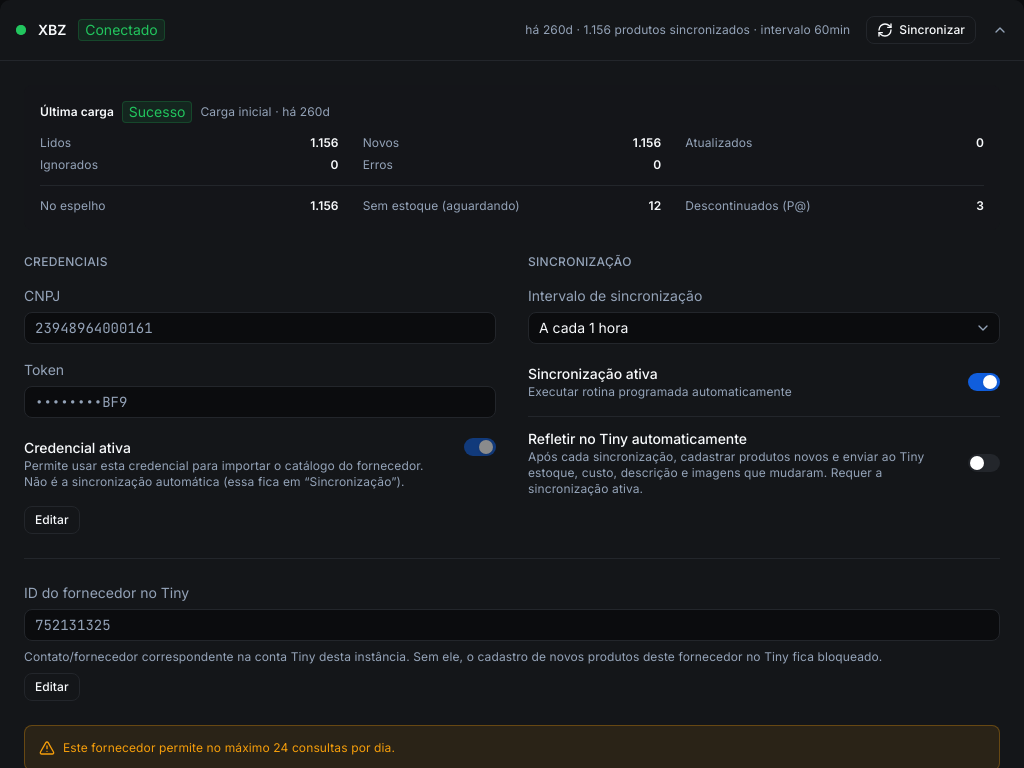
FornecedorAcordeao › Editar → limpar o campo → Salvar envia null
Click the button with aria-label "Editar ID do fornecedor no Tiny" at [52, 687], box left=24, top=673, right=80, bottom=701
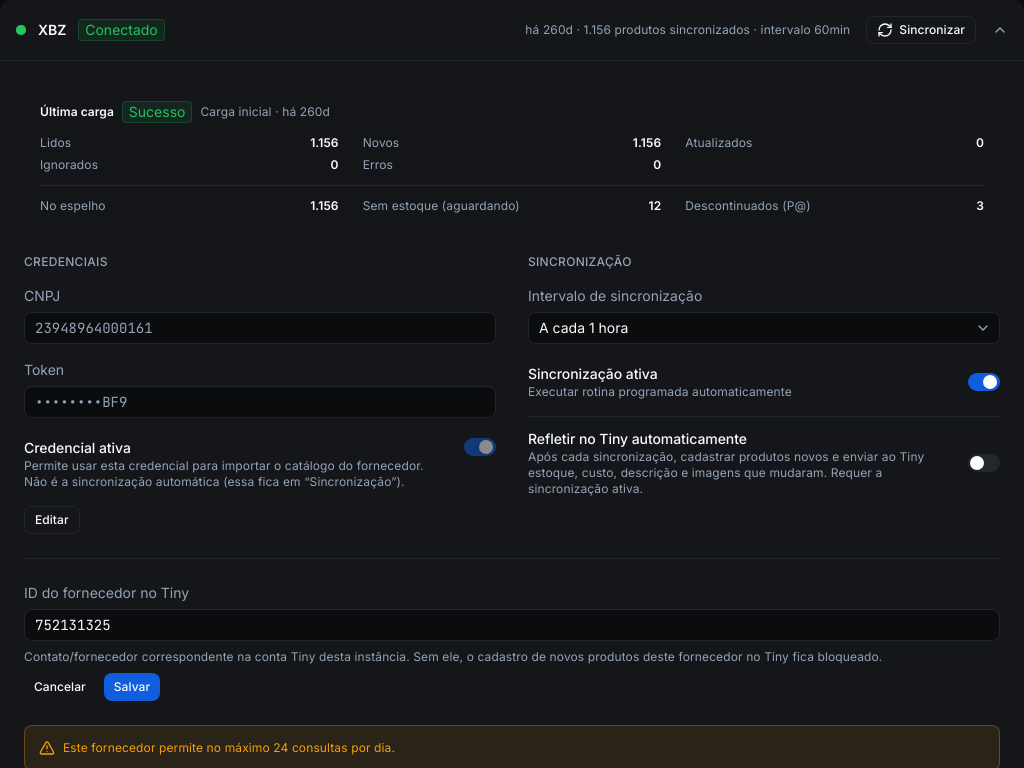
Clear the field labelled "ID do fornecedor no Tiny" at [512, 625], box left=24, top=609, right=1000, bottom=641
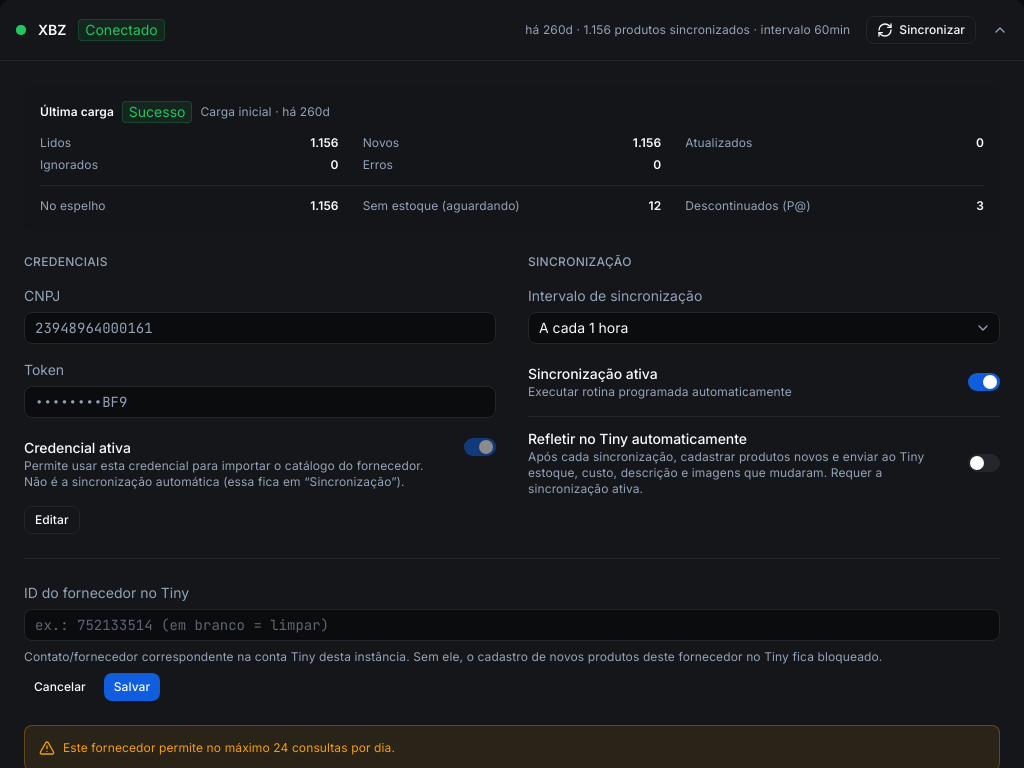
Click the button with aria-label "Salvar ID do fornecedor no Tiny" at [132, 687], box left=104, top=673, right=160, bottom=701
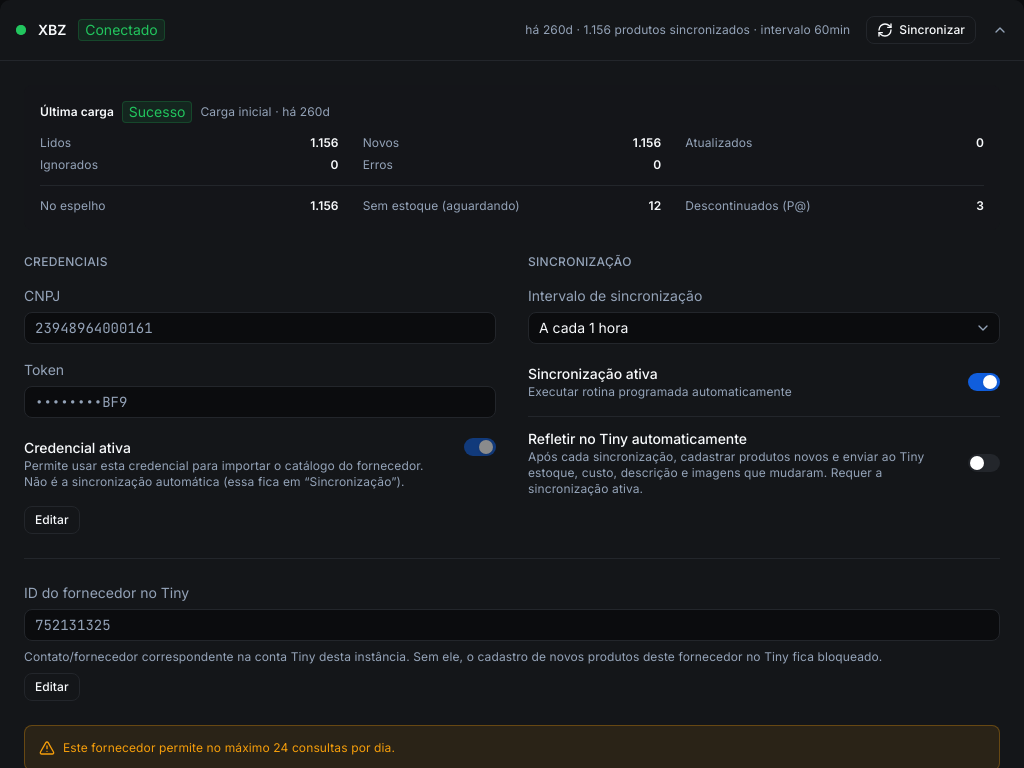
Check: the button with aria-label "Editar ID do fornecedor no Tiny" is shown, box left=24, top=673, right=80, bottom=701
